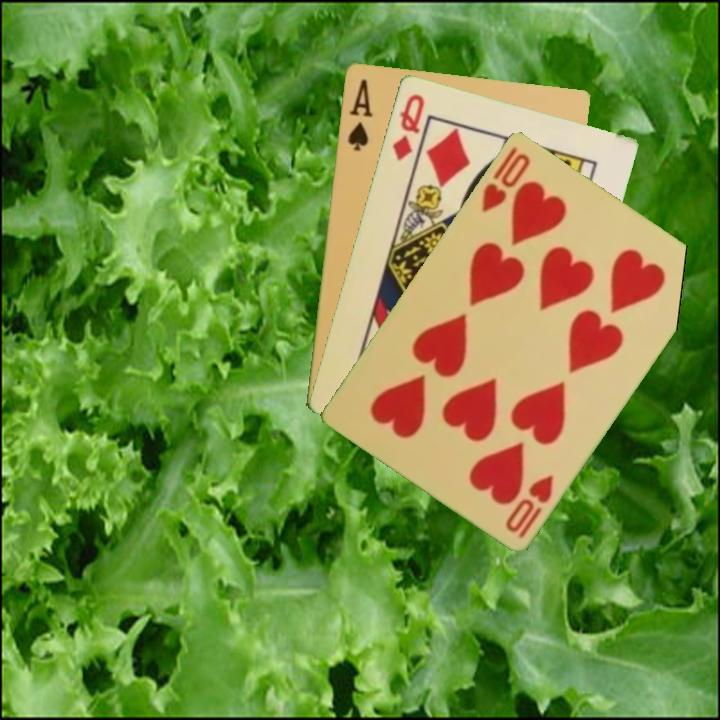10h: (477, 143, 533, 215), (501, 470, 556, 541)
As: (344, 75, 375, 153)
Qd: (388, 90, 427, 163)
